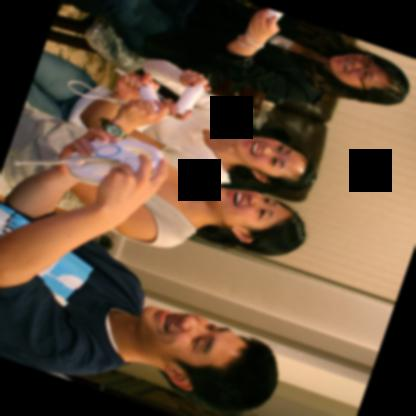handbag: (203, 78, 263, 113)
